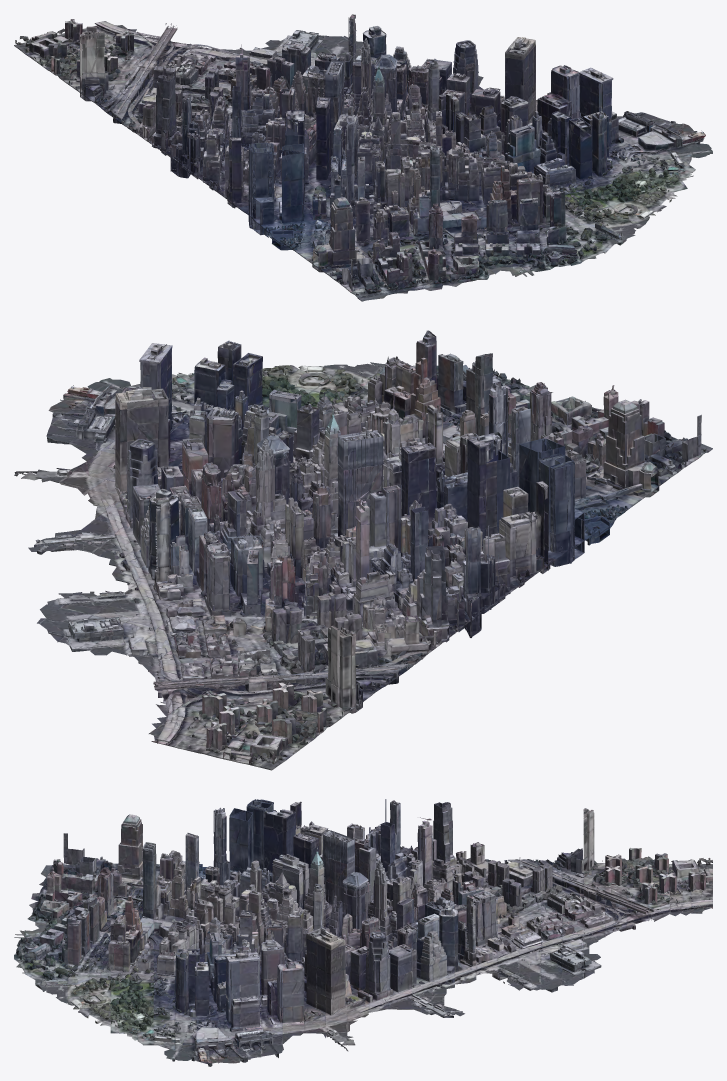
The model's file is city.glb.
3 renders of one model, top to bottom at view 1: azimuth 30°, elevation 25°; view 2: azimuth 150°, elevation 25°; view 3: azimuth 270°, elevation 25°, orthographic. The views are drawn at different scales.
Parts seen in each view (by area): view 1: ny_clean_up2objcleanermaterialmergergles; view 2: ny_clean_up2objcleanermaterialmergergles; view 3: ny_clean_up2objcleanermaterialmergergles.
Part boxes in pixels (x1,y1,x2,y2): ny_clean_up2objcleanermaterialmergergles: (14,14,712,301); ny_clean_up2objcleanermaterialmergergles: (14,330,712,770); ny_clean_up2objcleanermaterialmergergles: (14,799,712,1066).
Size of the model in its own units: 8.07 by 2.23 by 11.93.
1 material, 1 textured.
